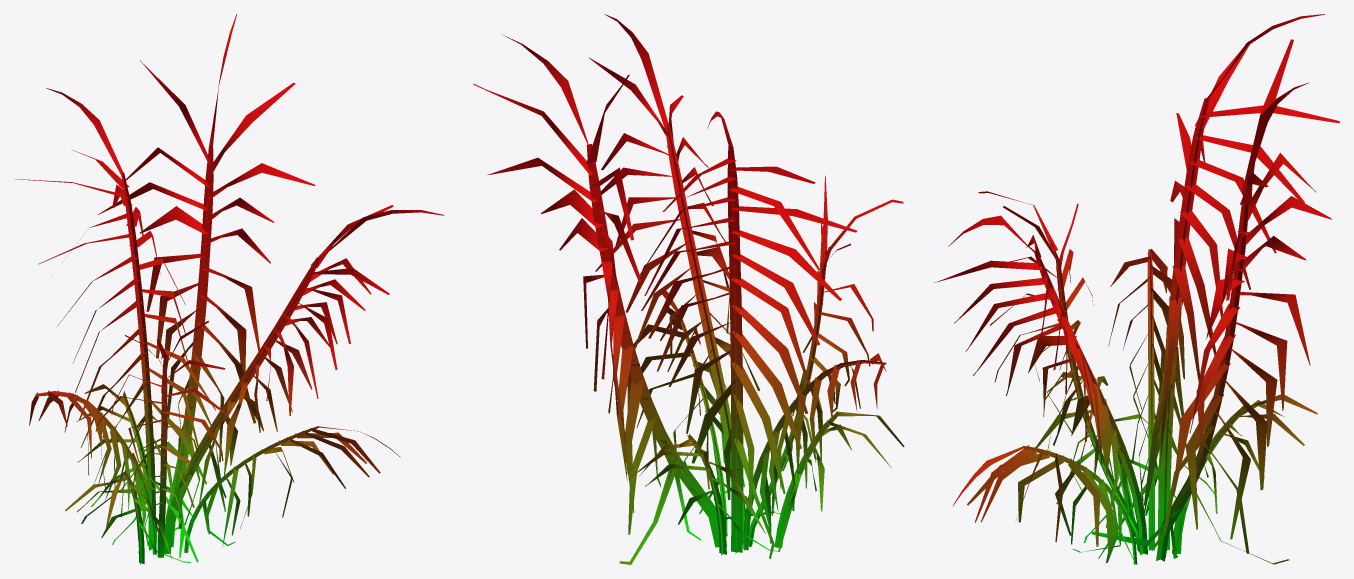
The model's file is Giant Reed_LOD2_Var1_sjllX.fbx.
The picture shows the model from 3 angles, left to right: view 1: azimuth 30°, elevation 25°; view 2: azimuth 150°, elevation 25°; view 3: azimuth 270°, elevation 25°; orthographic projection. The views are drawn at different scales.
Visible parts, largest first — view 1: _1405_Var1_LOD2; view 2: _1405_Var1_LOD2; view 3: _1405_Var1_LOD2.
Part boxes in pixels (x1,y1,x2,y2): _1405_Var1_LOD2: (15,14,444,564); _1405_Var1_LOD2: (473,14,904,564); _1405_Var1_LOD2: (934,14,1339,564).
Bounding box in the file's own units: 191 × 256 × 170.
